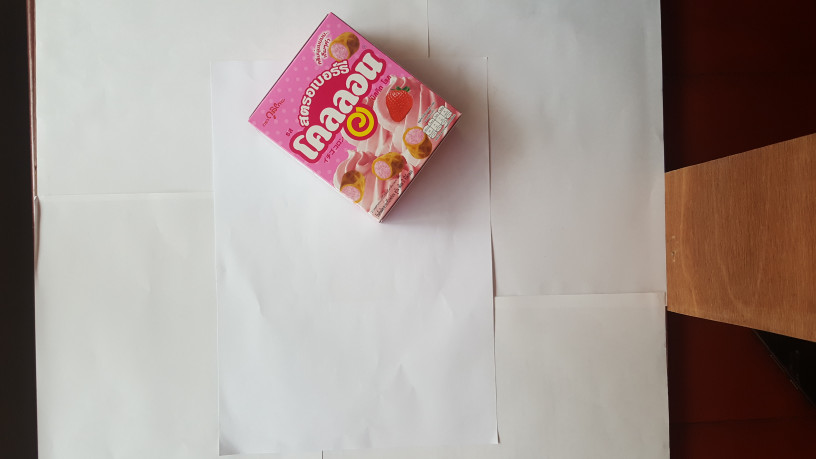collon-strawberry: (246, 13, 463, 223)
